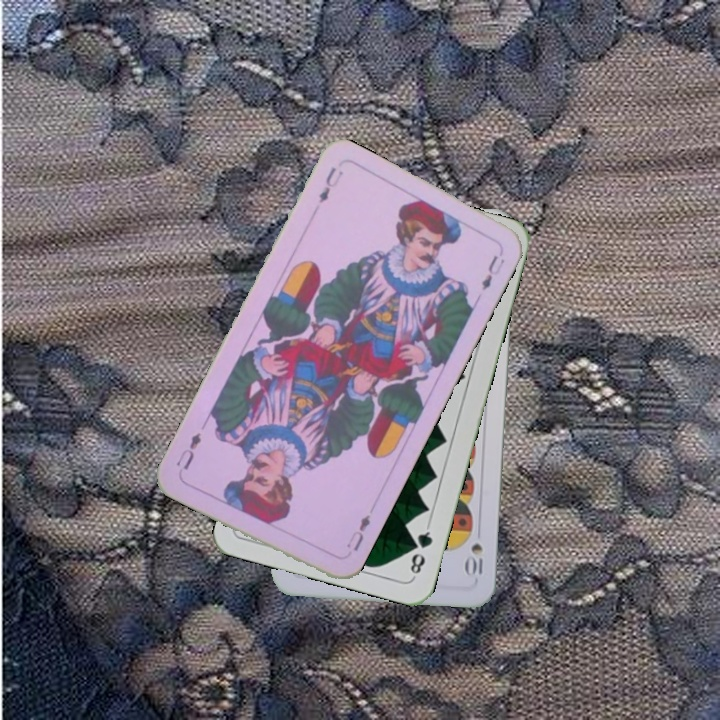EU: (314, 163, 346, 206), (342, 510, 373, 554)
G8: (406, 522, 435, 580)
S10: (463, 539, 485, 578)
